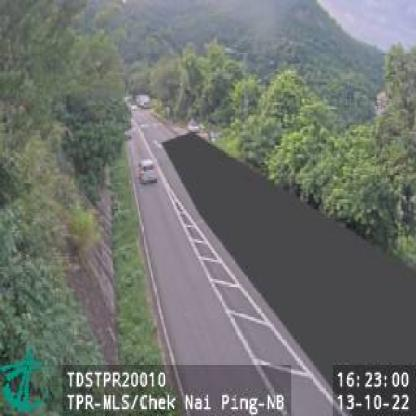Car: (139, 158, 159, 182)
